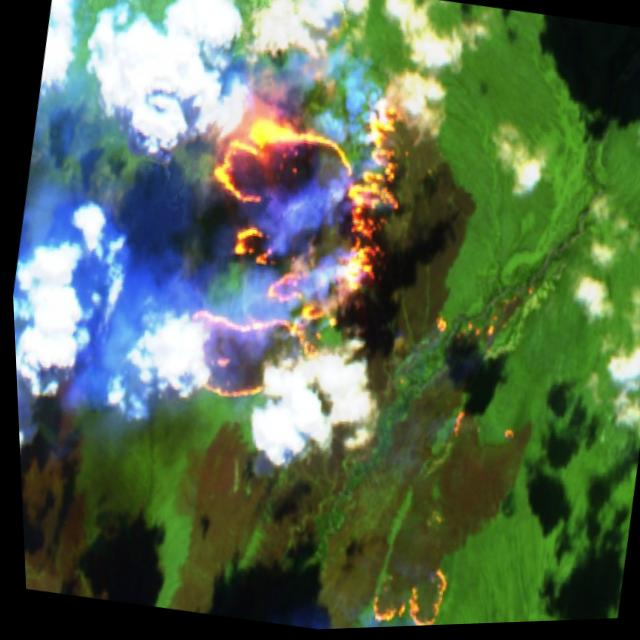fire: (155, 38, 430, 433), (356, 556, 447, 630)
